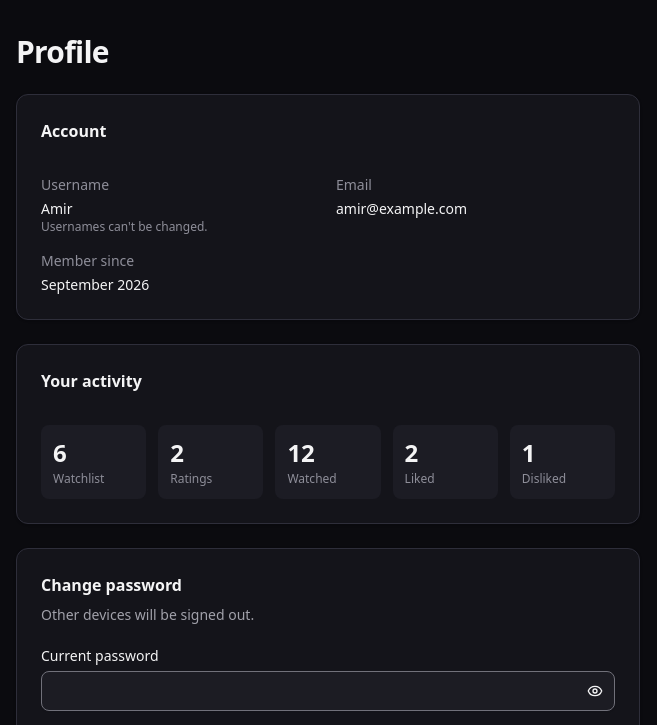
change password › locked account (429 ACCOUNT_LOCKED) → lock message, no countdown
Type "wrong-pass" into the password field labelled "Current password". click: (328, 691)
box: [41,671,615,711]
(page scrolled)
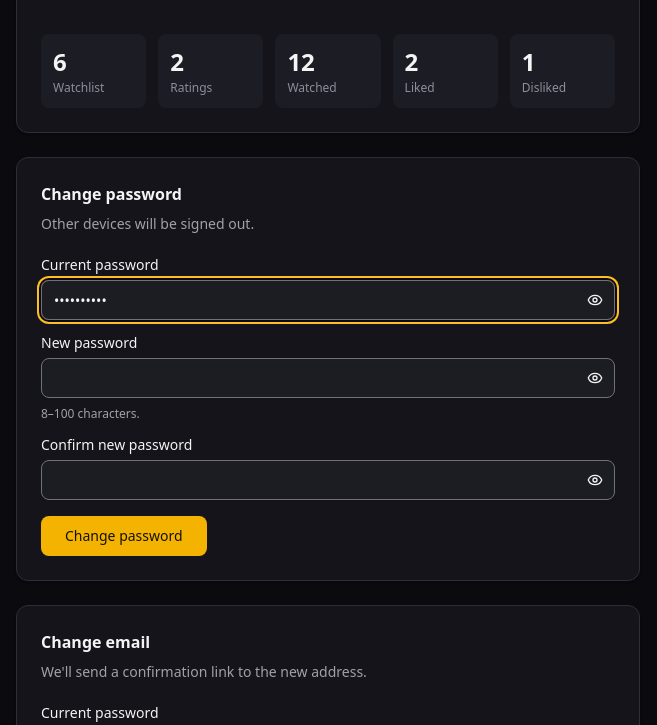
Type "new-password-1" into the password field labelled "New password". click: (328, 378)
box: [41,358,615,398]
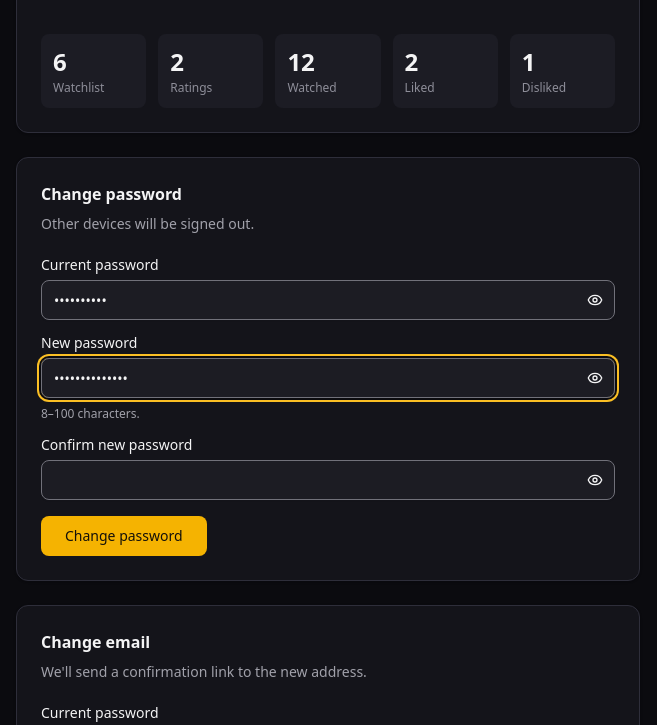
Type "new-password-1" into the password field labelled "Confirm new password". click: (328, 480)
box: [41,460,615,500]
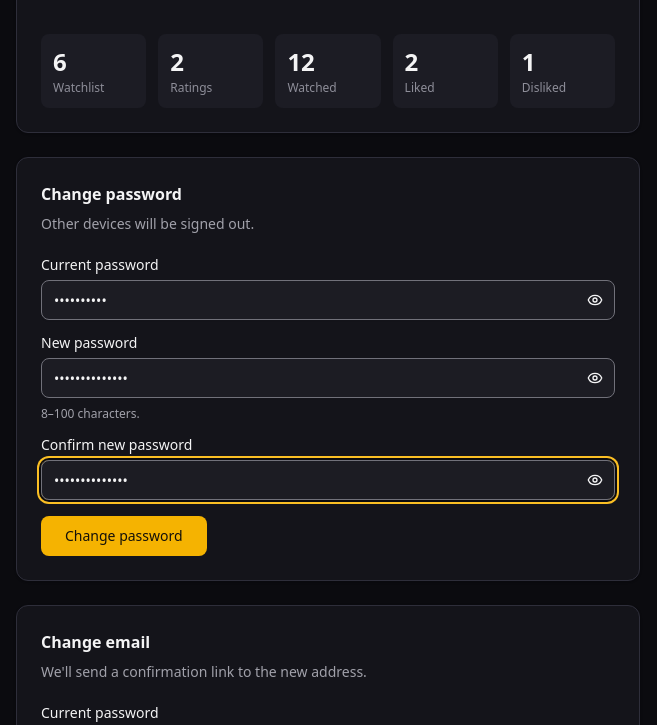
Click the button "Change password". click: (124, 536)
box: [41,516,207,556]
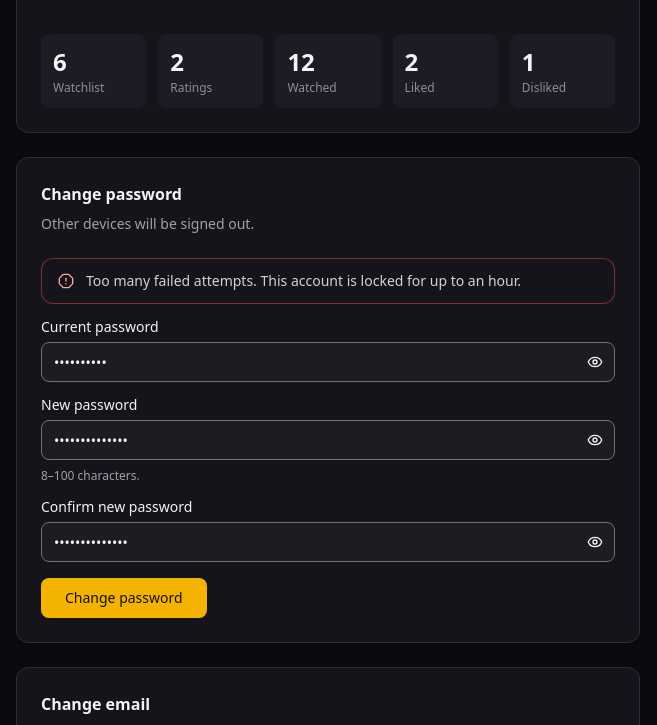
expect the button "Change password" is enabled: met, box [41,578,207,618]
expect the text "Too many failed attempts. This account is locked for up to an hour." is shown: met, box [86,271,521,290]
